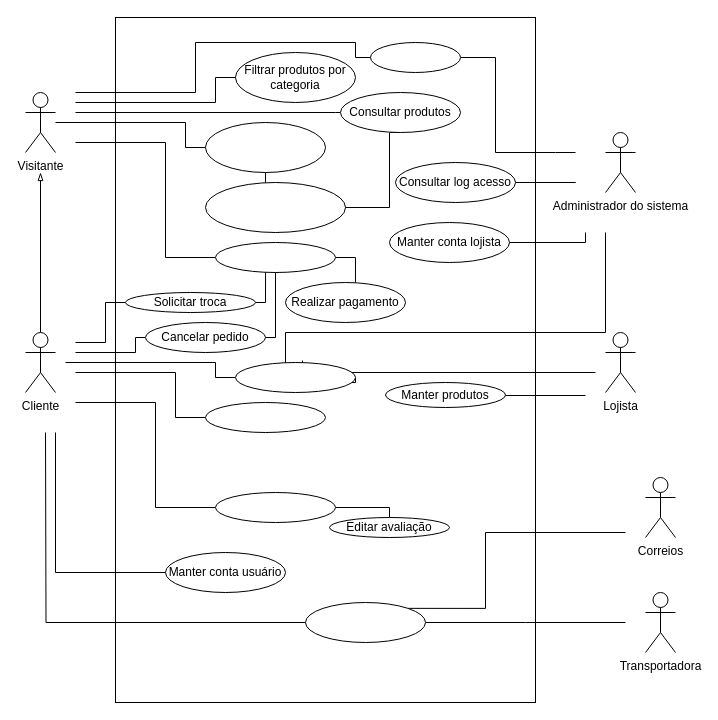
Image size: 718x720. Some labels were removed from this diagram. The box of each missing label's shape, as (x1, y1, x2, y2) in pixels:
Acesso ao sistema: (234, 362, 356, 392)
Avaliar produtos: (214, 492, 336, 522)
Busca produtos por texto: (204, 122, 326, 172)
Consultar pedidos: (204, 402, 326, 432)
Criar conta: (370, 42, 460, 72)
Rastrear objeto: (304, 602, 426, 642)
Realizar compra: (214, 242, 336, 272)
Visualizar detalhes produtos: (204, 182, 346, 232)
